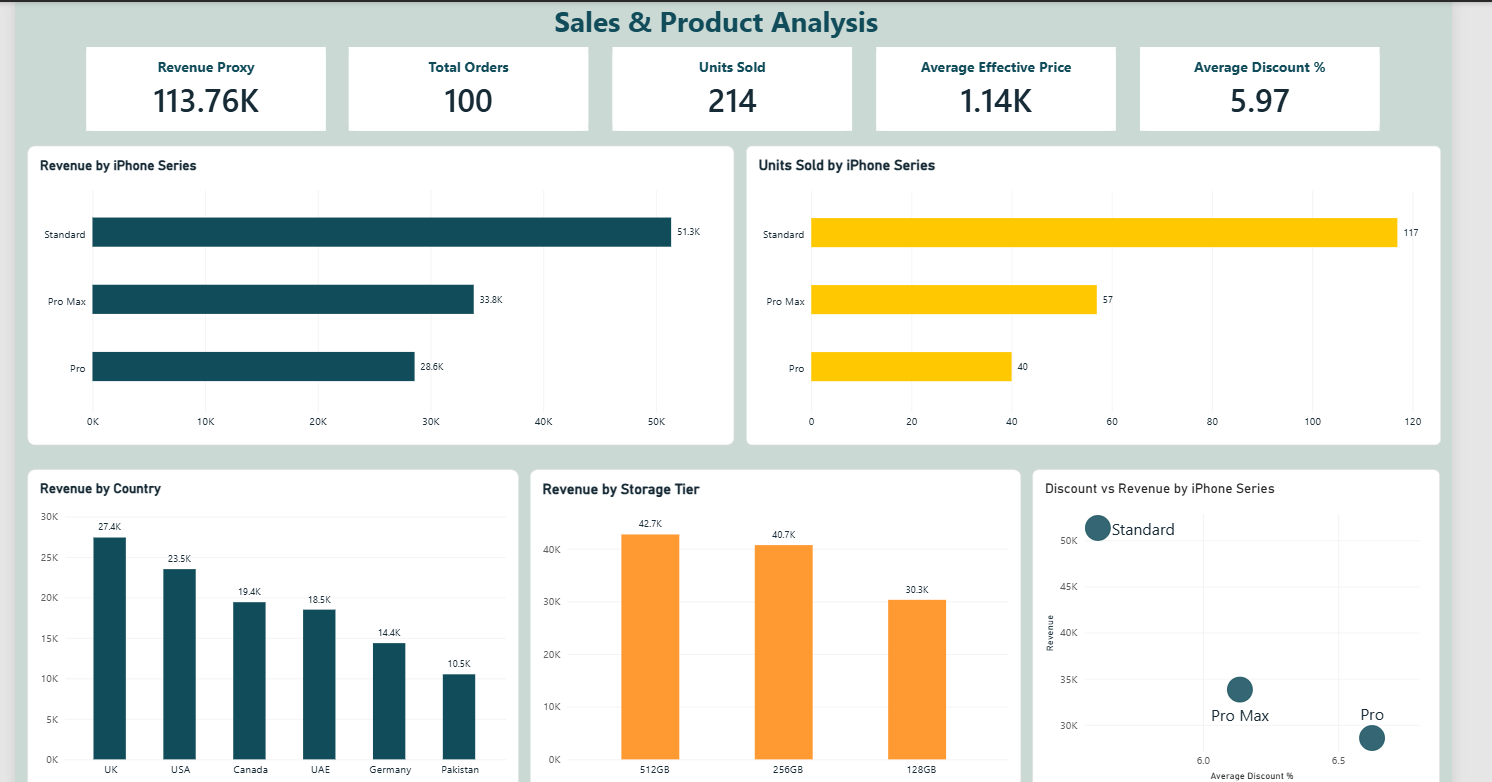

Layout of this report page (visuals, bound fields, positions):
{"tool":"powerbi","page":{"name":"Sales & Product Analysis","canvas":[1920,1080],"ordinal":1},"visuals":[{"type":"cardVisual","fields":{"Data":["Measures (2).Revenue Proxy"]},"box":[94.4,60.8,320,112],"z":0},{"type":"textbox","box":[320,0,1232,64],"z":2000},{"type":"cardVisual","fields":{"Data":["Measures (2).Total Orders"]},"box":[446.4,60.8,320,112],"z":3000},{"type":"cardVisual","fields":{"Data":["Measures (2).Units Sold"]},"box":[798.4,60.8,320,112],"z":4000},{"type":"cardVisual","fields":{"Data":["Measures (2).Average Effective Price"]},"box":[1150.4,60.8,320,112],"z":5000},{"type":"cardVisual","fields":{"Data":["Measures (2).Average Discount %"]},"box":[1502.4,60.8,320,112],"z":6000},{"type":"clusteredBarChart","title":"Revenue by iPhone Series","fields":{"Category":["public dim_product.series"],"Y":["Measures (2).Revenue Proxy"]},"box":[16,192,944,400],"z":7000},{"type":"clusteredBarChart","title":"Units Sold by iPhone Series","fields":{"Category":["public dim_product.series"],"Y":["Measures (2).Units Sold"]},"box":[976,192,928,400],"z":8000},{"type":"clusteredColumnChart","title":"Revenue by Country","fields":{"Category":["public dim_store.country"],"Y":["Measures (2).Revenue Proxy"]},"box":[16,624,656,432],"z":9000},{"type":"clusteredColumnChart","title":"Revenue by Storage Tier","fields":{"Y":["Measures (2).Revenue Proxy"],"Category":["public dim_product.storage"]},"box":[688,624,656,432],"z":10000},{"type":"scatterChart","title":"Discount vs Revenue by iPhone Series","fields":{"X":["Measures (2).Average Discount %"],"Y":["Measures (2).Revenue Proxy"],"Category":["public dim_product.series"]},"box":[1360,624,544,432],"z":11000}]}

Visuals, with their boxes on the page's 1920x1080 design canvas (x1, y1, x2, y2). These are canvas units, not pixel positions in the 1492x782 screenshot, which may show the page scaled, cropped or inside an application window:
cardVisual - Measures (2).Revenue Proxy: [94,61,414,173]
textbox: [320,0,1552,64]
cardVisual - Measures (2).Total Orders: [446,61,766,173]
cardVisual - Measures (2).Units Sold: [798,61,1118,173]
cardVisual - Measures (2).Average Effective Price: [1150,61,1470,173]
cardVisual - Measures (2).Average Discount %: [1502,61,1822,173]
"Revenue by iPhone Series" clusteredBarChart: [16,192,960,592]
"Units Sold by iPhone Series" clusteredBarChart: [976,192,1904,592]
"Revenue by Country" clusteredColumnChart: [16,624,672,1056]
"Revenue by Storage Tier" clusteredColumnChart: [688,624,1344,1056]
"Discount vs Revenue by iPhone Series" scatterChart: [1360,624,1904,1056]
